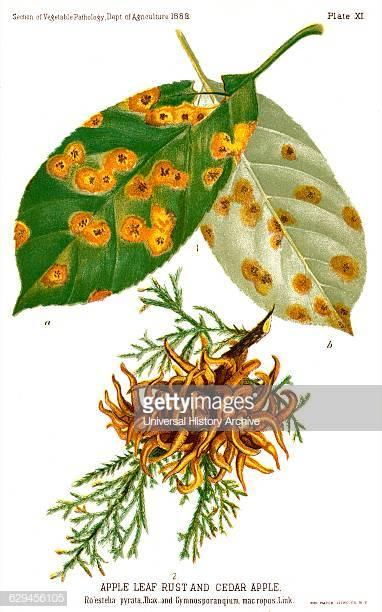Apple rust leaf: (9, 52, 269, 348), (178, 56, 374, 355)
